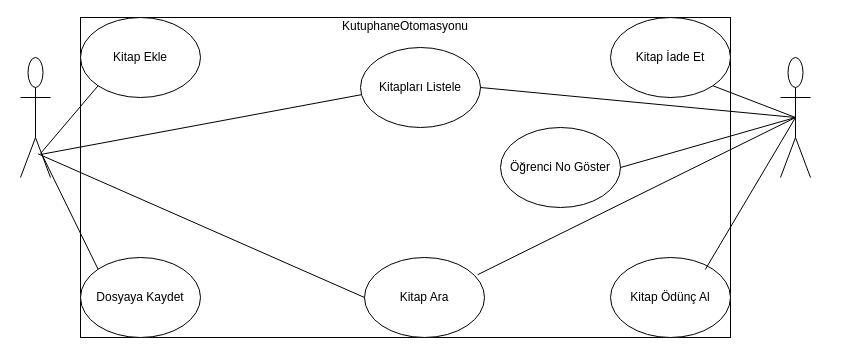
This 855x355 diagram has some shape labels left out. Here are the shapes that lost their labels. From the top down, the box of each, then its label:
(20, 56, 50, 178): Memur
(780, 56, 810, 178): StudentMember
